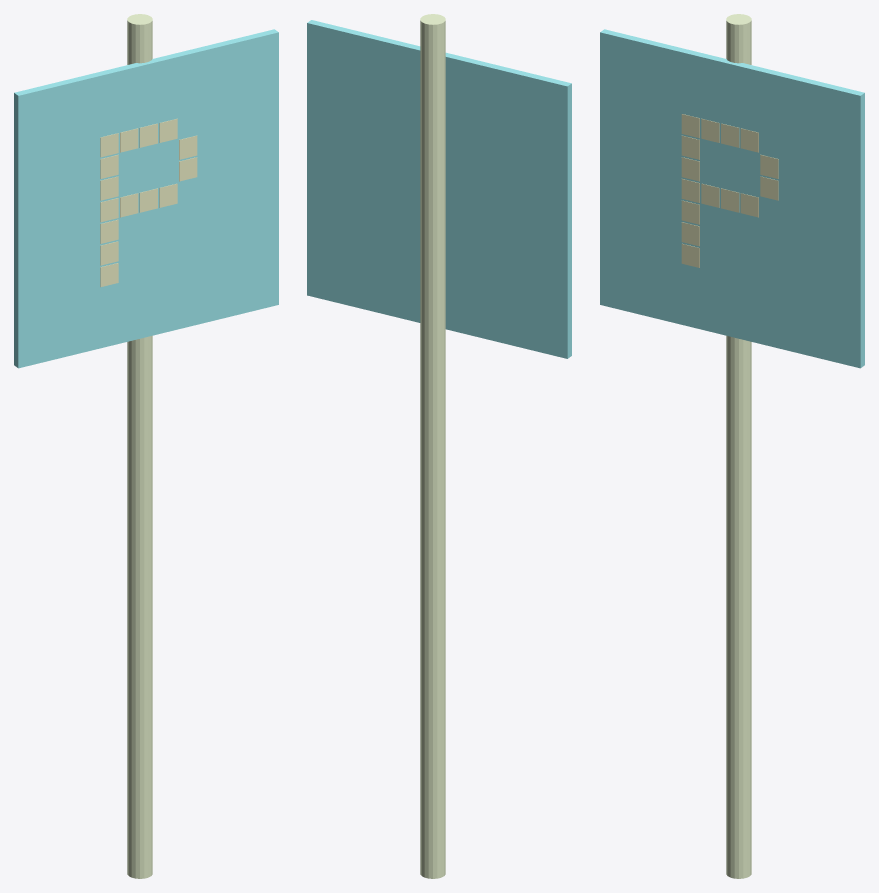
File: sign_parking.glb
3 views of the same model, side by side, from view 1: azimuth 30°, elevation 25°; view 2: azimuth 150°, elevation 25°; view 3: azimuth 330°, elevation 25° (orthographic).
Visible parts, largest first — view 1: plate_base_00, pole; view 2: plate_base_00, pole; view 3: plate_base_00, pole.
Part boxes in pixels (x1=…): plate_base_00: x1=14, y1=29, x2=278, y2=368; pole: x1=127, y1=14, x2=152, y2=878; plate_base_00: x1=307, y1=20, x2=571, y2=358; pole: x1=420, y1=14, x2=445, y2=878; plate_base_00: x1=600, y1=29, x2=864, y2=368; pole: x1=726, y1=14, x2=751, y2=878.
Bounding box in the file's own units: 0.702 × 2.2 × 0.071.
